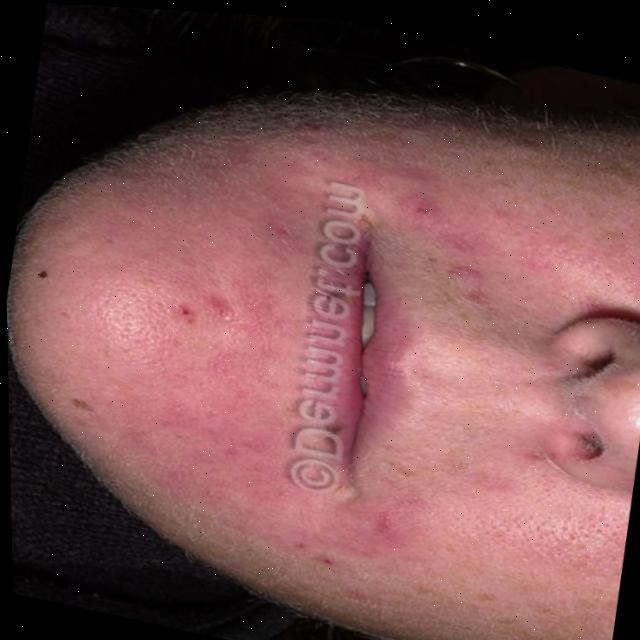Rosacea: (82, 174, 445, 588), (496, 487, 632, 602)
